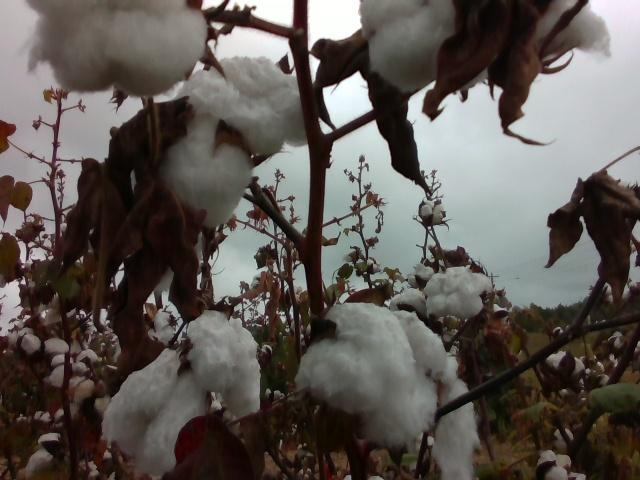cotton_ready: (292, 305, 485, 480), (99, 310, 264, 475), (160, 54, 313, 228), (359, 0, 611, 89), (22, 0, 208, 96), (422, 264, 492, 317), (150, 299, 185, 351), (537, 450, 587, 480)
